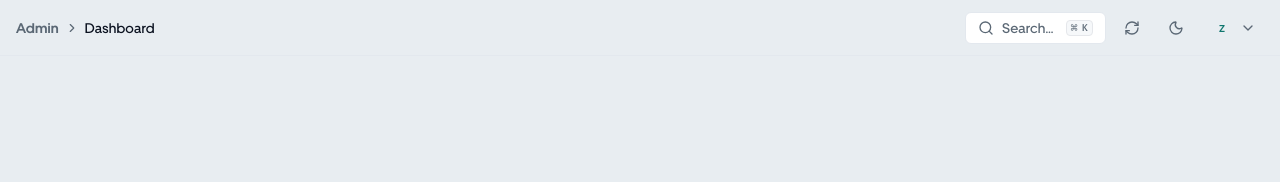
Topbar › opens user dropdown and shows name, role, and sign-out
The width and height of the screenshot is (1280, 182).
Click the button named "User menu". click: (1233, 28)
box: [1202,12,1264,44]
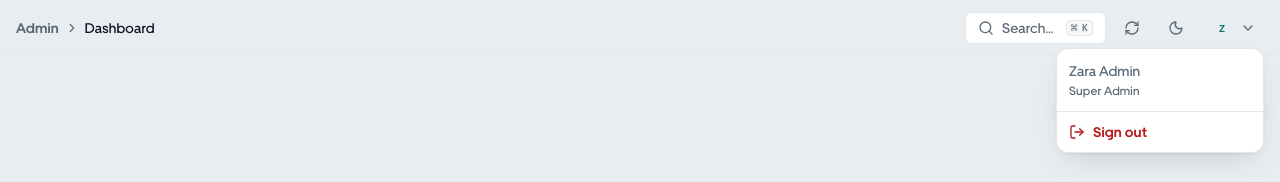
Now the text "Zara Admin" is shown, box [1069,63,1140,79]
Now the text "Super Admin" is shown, box [1069,84,1140,98]
Now the menu item "Sign out" is shown, box [1069,124,1147,140]
